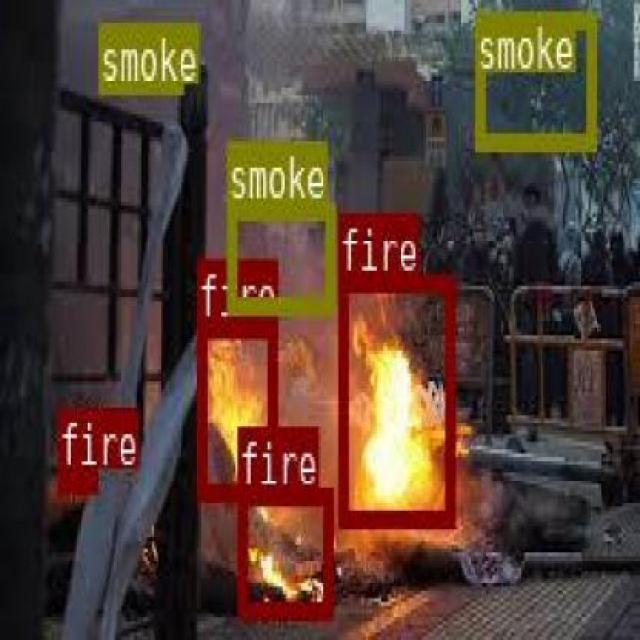Fire: (338, 272, 453, 526), (194, 319, 274, 496), (238, 484, 330, 618), (56, 467, 95, 490)
Smoke: (473, 10, 593, 147), (226, 202, 334, 310), (98, 20, 180, 89)
